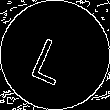L_NE: (30, 26, 80, 84)
